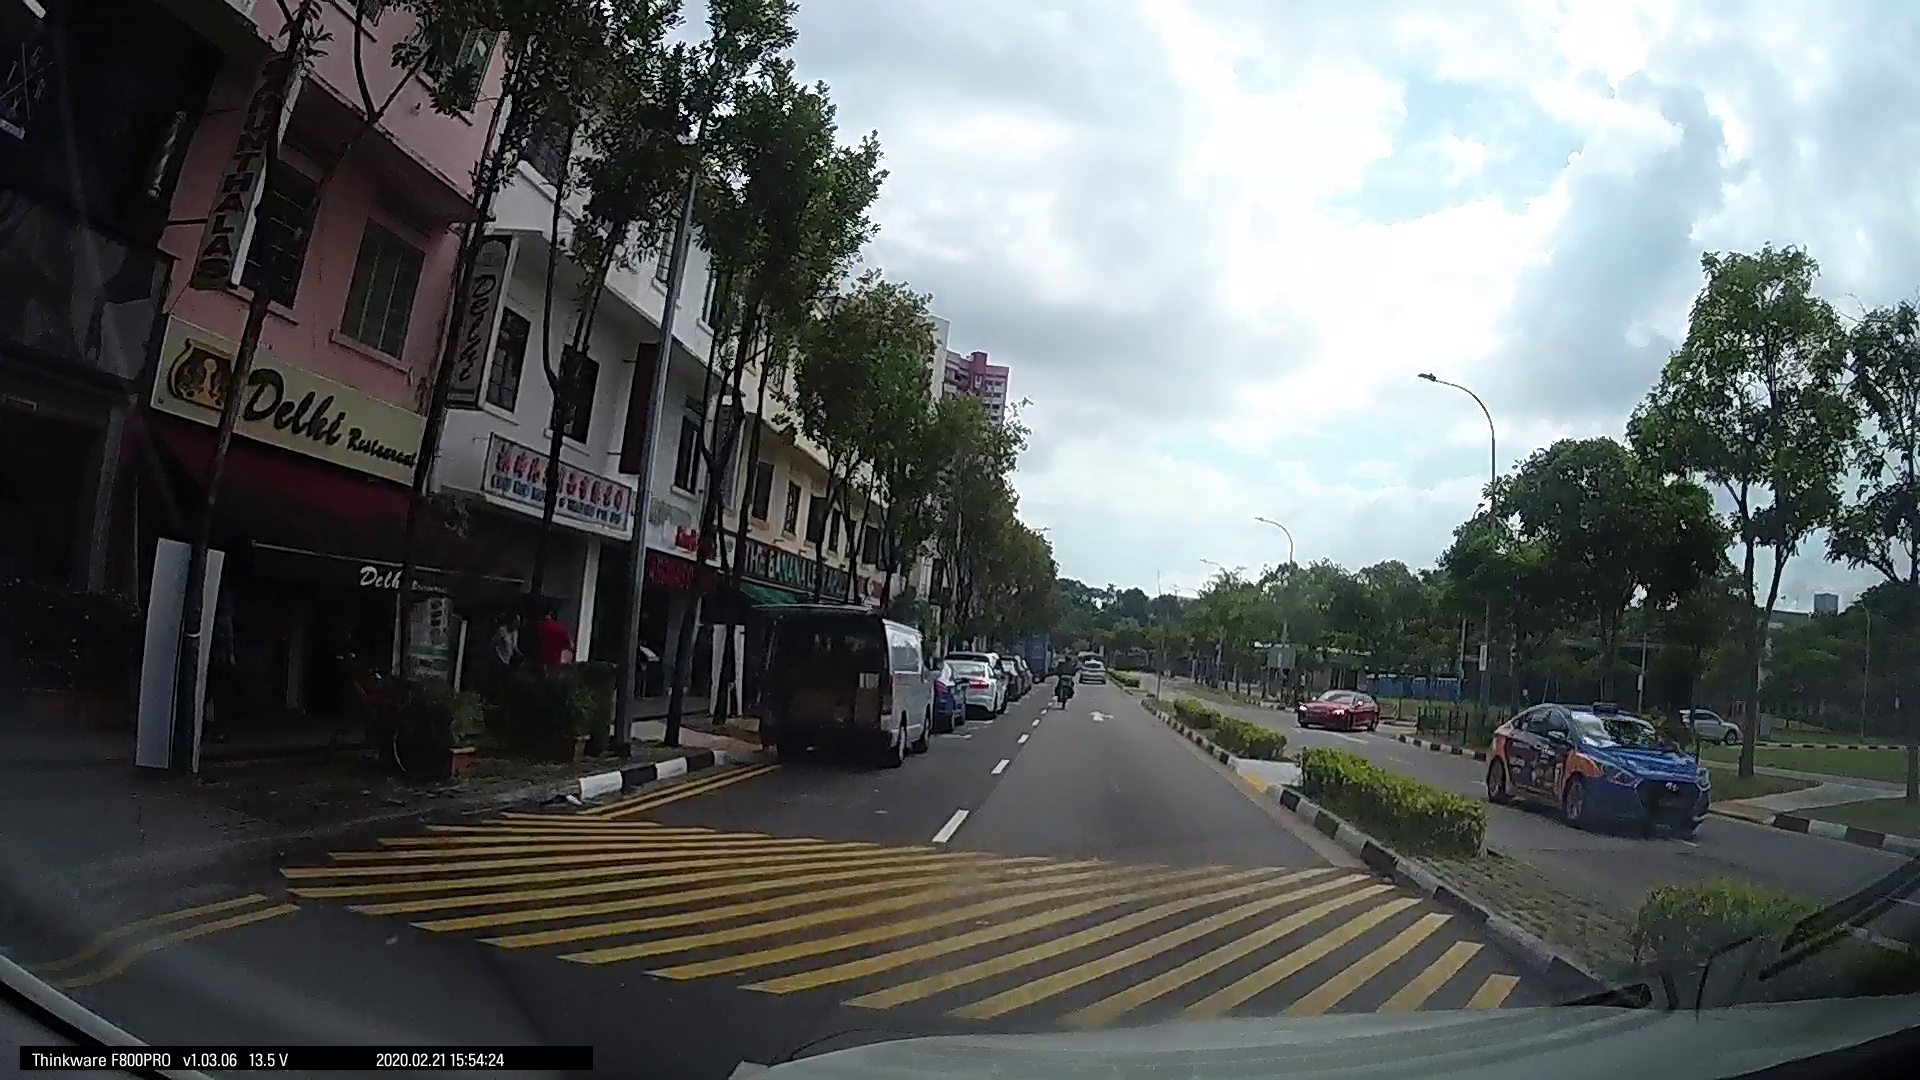Heavy Vehicle: (756, 601, 934, 767)
Light Vehicle: (1481, 696, 1717, 835), (760, 601, 932, 766), (1291, 676, 1387, 736), (934, 647, 1011, 716)
